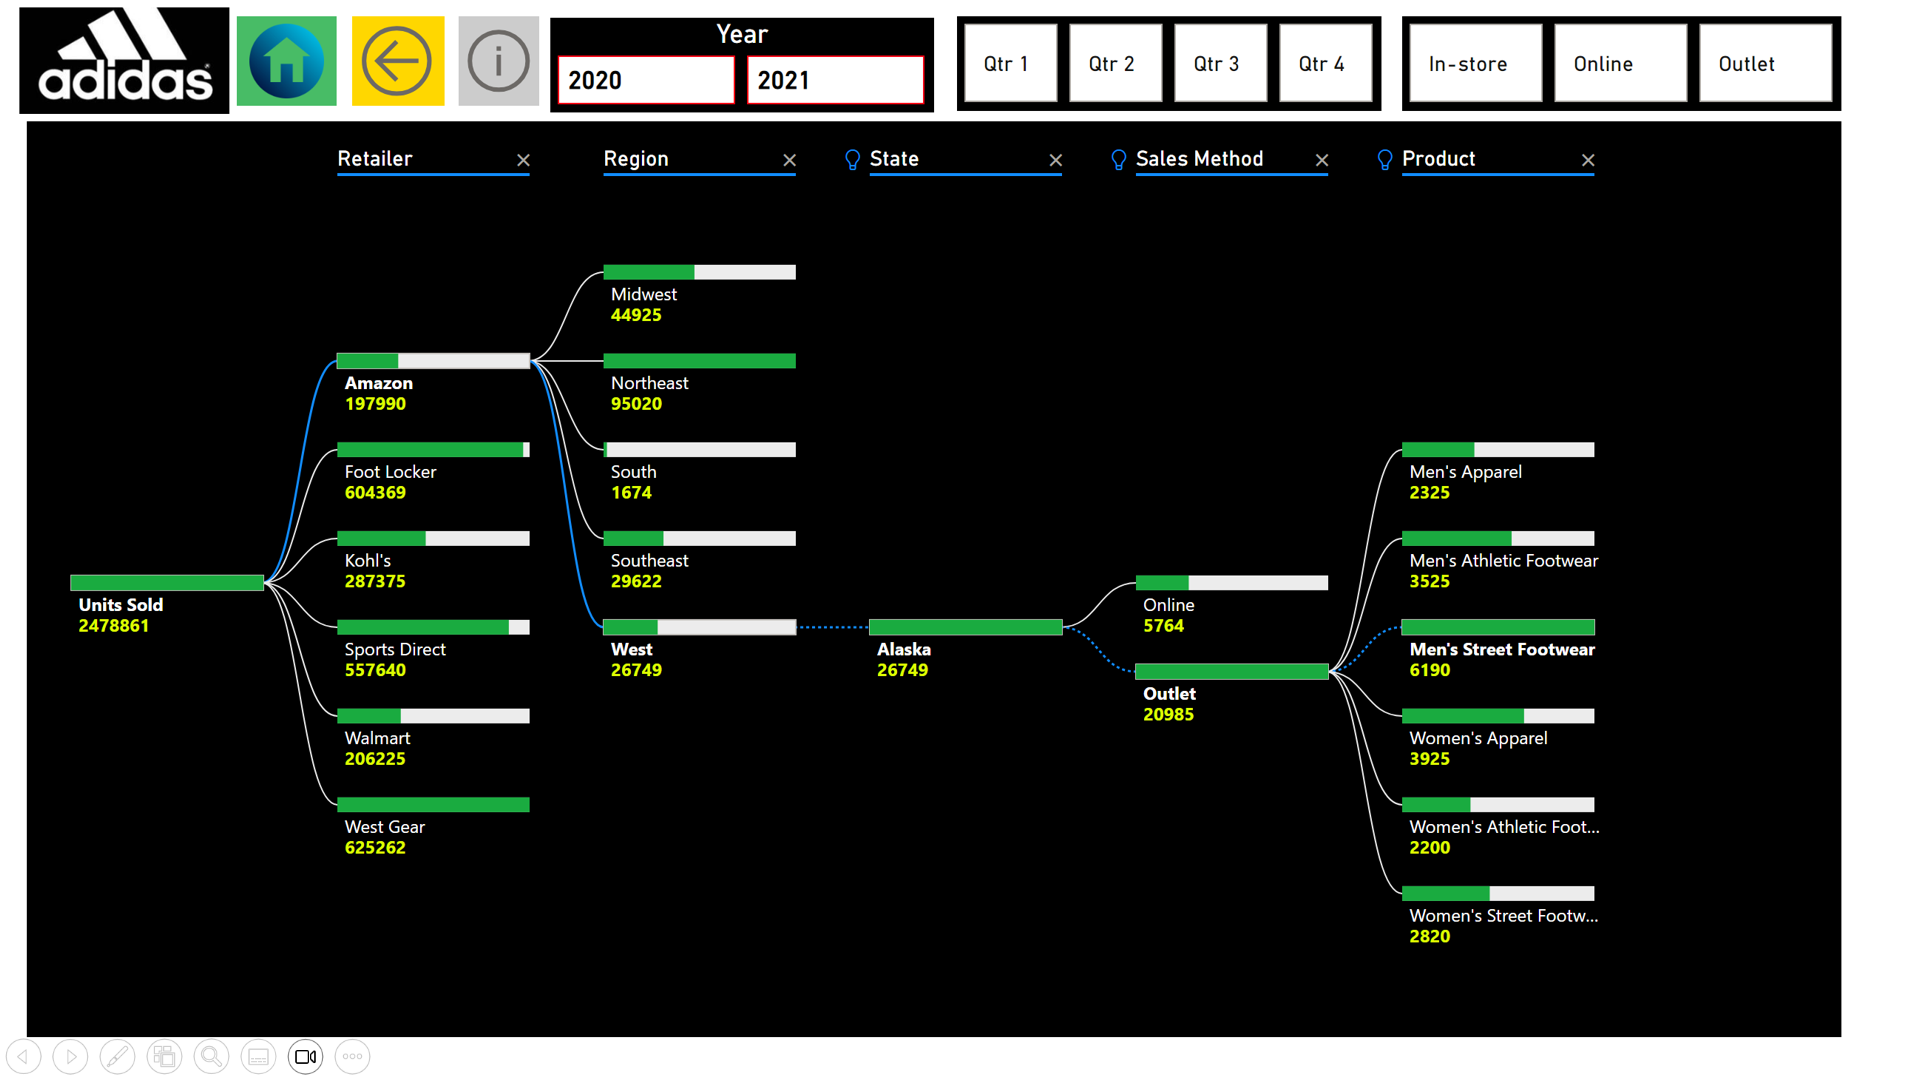

What the dashboard file says about the page in this screenshot:
{"tool":"powerbi","page":{"name":"Data Driven Performance","canvas":[1280,720],"ordinal":4},"visuals":[{"type":"advancedSlicerVisual","fields":{"Values":["Data Sales Adidas.Invoice Date.Variation.Date Hierarchy.Year"]},"box":[364.3,12.1,259.4,63.9],"z":0},{"type":"image","box":[152,10.9,67.6,60.3],"z":1000},{"type":"actionButton","box":[230.4,10.9,62.7,60.3],"z":2000},{"type":"decompositionTreeVisual","fields":{"Analyze":["Sum(Data Sales.Units Sold)"],"ExplainBy":["Data Sales.Retailer","Data Sales.Region","Data Sales.State","Data Sales.Sales Method","Data Sales.Product"]},"box":[9.7,82,1227,618.9],"z":3000},{"type":"image","box":[0,0,152,82],"z":4000},{"type":"advancedSlicerVisual","fields":{"Values":["Data Sales.Invoice Date.Variation.Date Hierarchy.Quarter"]},"box":[639.4,10.9,287.1,63.9],"z":5000},{"type":"advancedSlicerVisual","fields":{"Values":["Data Sales.Sales Method"]},"box":[939.8,10.9,296.8,63.9],"z":6000},{"type":"actionButton","box":[301.6,10.9,54.3,60.3],"z":7000}]}

Visuals, with their boxes in screenshot pixels (x1, y1, x2, y2), scaled from the page's 1280x720 canvas onto the 1920x1080 screenshot:
advancedSlicerVisual - Data Sales Adidas.Invoice Date.Variation.Date Hierarchy.Year: left=546, top=18, right=936, bottom=114
image: left=228, top=16, right=329, bottom=107
actionButton: left=346, top=16, right=440, bottom=107
decompositionTreeVisual - Sum(Data Sales.Units Sold) x Data Sales.Retailer: left=15, top=123, right=1855, bottom=1051
image: left=0, top=0, right=228, bottom=123
advancedSlicerVisual - Data Sales.Invoice Date.Variation.Date Hierarchy.Quarter: left=959, top=16, right=1390, bottom=112
advancedSlicerVisual - Data Sales.Sales Method: left=1410, top=16, right=1855, bottom=112
actionButton: left=452, top=16, right=534, bottom=107
